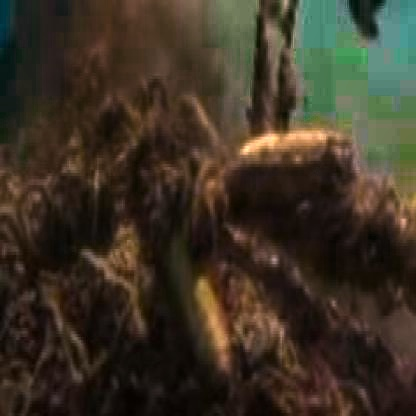net: (18, 97, 268, 410)
